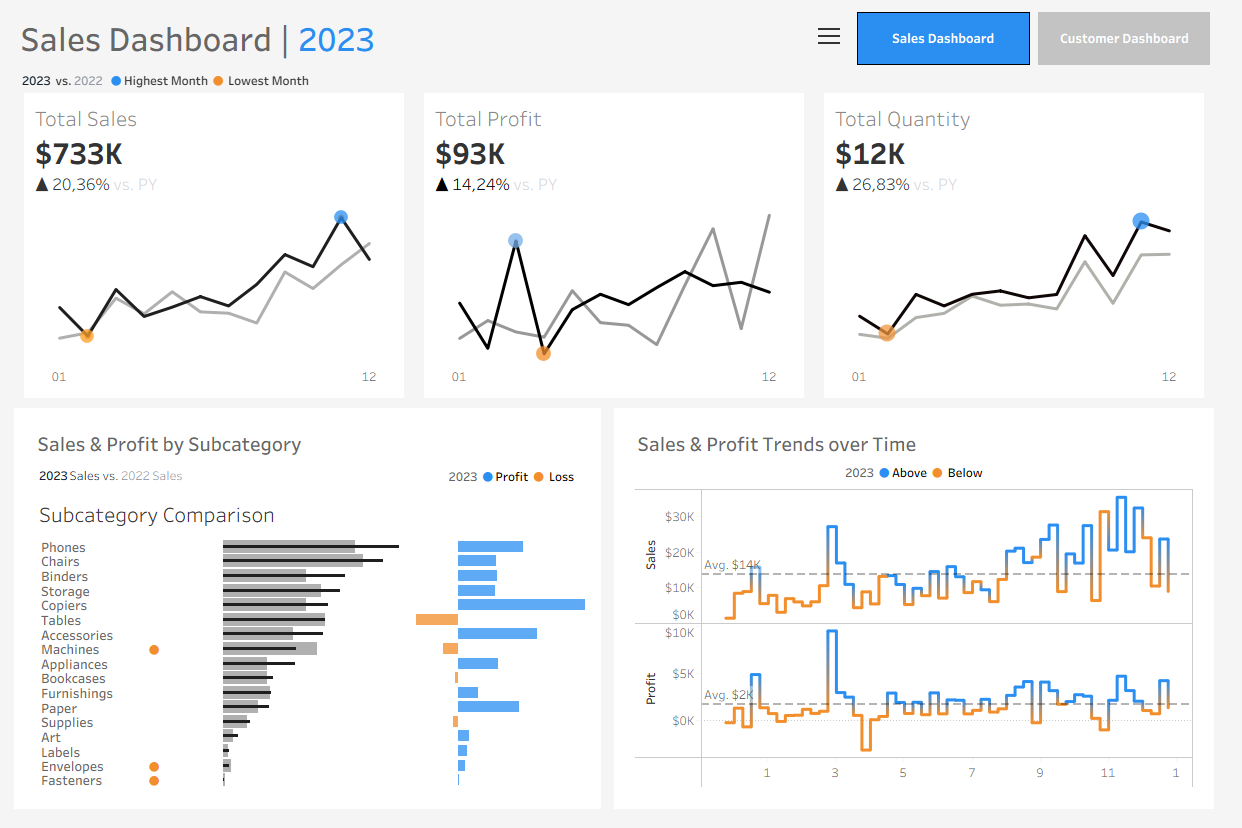

Layout of this report page (visuals, bound fields, positions):
{"tool":"tableau","page":{"name":"Sales Dashboard","canvas":[1200,800],"ordinal":2},"visuals":[{"type":"text","box":[0,0,839,61]},{"type":"dashboard-object","box":[839,0,181,61]},{"type":"dashboard-object","box":[1020,0,180,61]},{"type":"dashboard-object","box":[803,16,24,24]},{"type":"worksheet","title":"Legend KPI","mark":"Automatic","box":[0,61,1200,24]},{"type":"worksheet","title":"Sales dasboard","mark":"Automatic","rows":["Calculation_1147854970909888526"],"cols":["Order Date"],"box":[0,85,400,315]},{"type":"worksheet","title":"Profit dasboard","mark":"Line","rows":["Calculation_1147854971115585562"],"cols":["Order Date"],"box":[400,85,400,315]},{"type":"worksheet","title":"Quantity dasboard","mark":"Automatic","rows":["Calculation_1147854971126104094"],"cols":["Order Date"],"box":[800,85,400,315]},{"type":"parameter","param":"[Parameters].[Parameter 1]","box":[1036,86,158,52]},{"type":"legend","title":"Sales dasboard","param":"[federated.19rw79u1ow10a016p7cqy1blbre3].[:Measure Names]","box":[1036,138,158,46.1]},{"type":"legend","title":"Sales dasboard","param":"[federated.19rw79u1ow10a016p7cqy1blbre3].[usr:Calculation_1147854970909888526:qk","box":[1036,184.1,158,46.1]},{"type":"legend","title":"Profit dasboard","param":"[federated.19rw79u1ow10a016p7cqy1blbre3].[usr:Calculation_1147854971115585562:qk","box":[1036,230.3,158,46.1]},{"type":"legend","title":"Quantity dasboard","param":"[federated.19rw79u1ow10a016p7cqy1blbre3].[usr:Calculation_1147854971126104094:qk","box":[1036,276.4,158,46.1]},{"type":"legend","title":"Subcategory Comparison","param":"[federated.19rw79u1ow10a016p7cqy1blbre3].[sum:Calculation_1147854971113685012:qk","box":[1036,322.5,158,46.1]},{"type":"filter","title":"Weekly trends","param":"[federated.19rw79u1ow10a016p7cqy1blbre3].[sum:Calculation_1147854970904162313:qk","box":[1036,368.7,158,46.1]},{"type":"blank","box":[587,394,13,410]},{"type":"legend","title":"Weekly trends","param":"[federated.19rw79u1ow10a016p7cqy1blbre3].[usr:KPI Sales Avg (copy)_1147854972676","box":[1036,414.8,158,46.2]},{"type":"text","box":[17,417,566,34]},{"type":"text","box":[617,417,566,34]},{"type":"worksheet","title":"Legend Subcategory","mark":"Automatic","box":[17,451,411,32]},{"type":"text","box":[428,451,155,32]},{"type":"text","box":[617,451,566,25]},{"type":"worksheet","title":"Weekly trends","mark":"Automatic","rows":["Calculation_1147854970904162313","Calculation_1147854971113685012"],"cols":["Order Date"],"box":[617,476,566,307]},{"type":"worksheet","title":"Subcategory Comparison","mark":"Bar","rows":["Sub-Category","Calculation_1147854971287744548"],"cols":["CY Sales (copy)_1147854970905001995","Calculation_1147854970904162313","Calculation_1147854971113685012"],"box":[17,483,566,299.9]}]}

Visuals, with their boxes in screenshot pixels (x1, y1, x2, y2), scaled from the page's 1200x800 canvas onto the 1242x828 screenshot:
text: Rect(0, 0, 868, 63)
dashboard-object: Rect(868, 0, 1056, 63)
dashboard-object: Rect(1056, 0, 1241, 63)
dashboard-object: Rect(831, 17, 856, 41)
"Legend KPI" worksheet: Rect(0, 63, 1241, 88)
"Sales dasboard" worksheet: Rect(0, 88, 414, 414)
"Profit dasboard" worksheet (Line marks): Rect(414, 88, 828, 414)
"Quantity dasboard" worksheet: Rect(828, 88, 1241, 414)
parameter: Rect(1072, 89, 1236, 143)
"Sales dasboard" legend: Rect(1072, 143, 1236, 191)
"Sales dasboard" legend: Rect(1072, 191, 1236, 238)
"Profit dasboard" legend: Rect(1072, 238, 1236, 286)
"Quantity dasboard" legend: Rect(1072, 286, 1236, 334)
"Subcategory Comparison" legend: Rect(1072, 334, 1236, 382)
"Weekly trends" filter: Rect(1072, 382, 1236, 429)
blank: Rect(608, 408, 621, 827)
"Weekly trends" legend: Rect(1072, 429, 1236, 477)
text: Rect(18, 432, 603, 467)
text: Rect(639, 432, 1224, 467)
"Legend Subcategory" worksheet: Rect(18, 467, 443, 500)
text: Rect(443, 467, 603, 500)
text: Rect(639, 467, 1224, 493)
"Weekly trends" worksheet: Rect(639, 493, 1224, 810)
"Subcategory Comparison" worksheet (Bar marks): Rect(18, 500, 603, 810)
